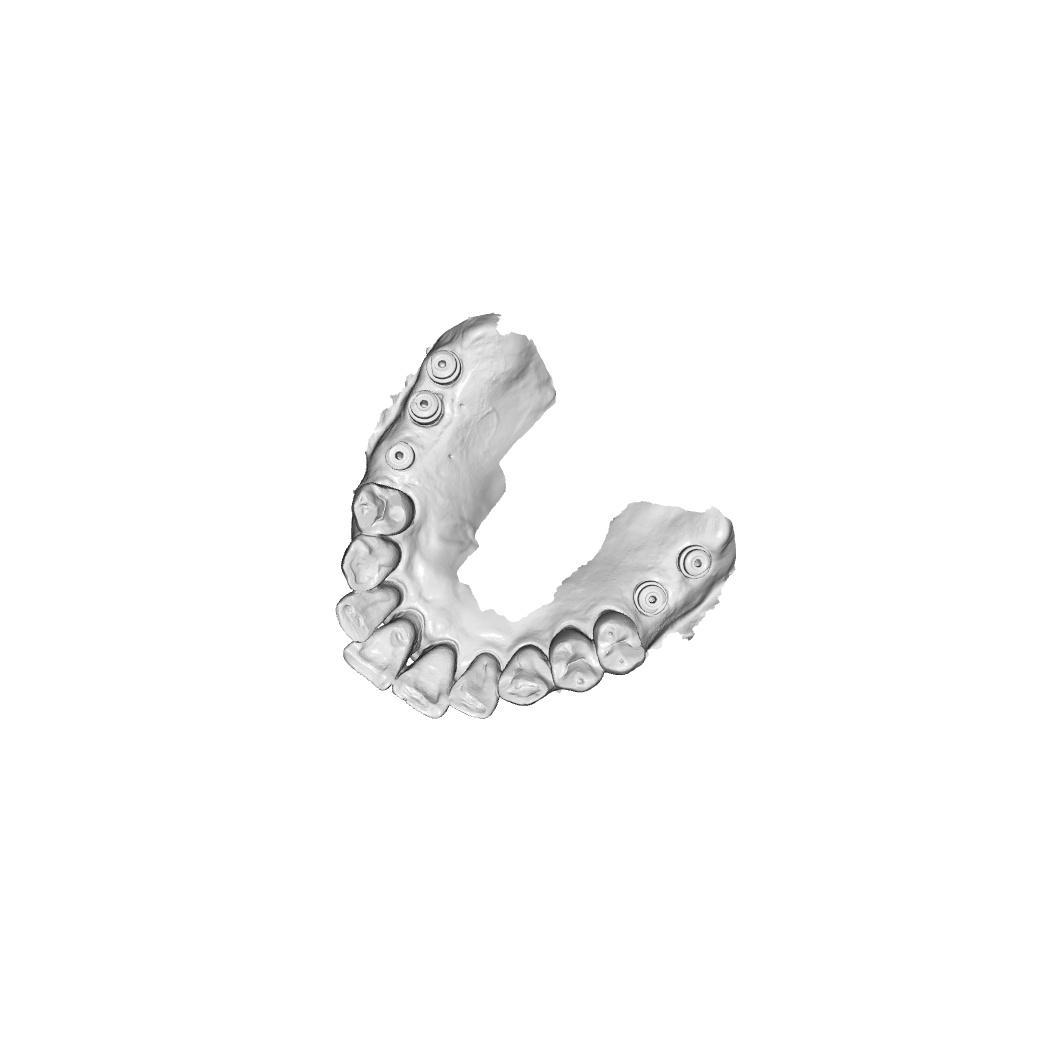canine: (497, 643, 556, 708), (340, 534, 402, 592)
implant: (406, 389, 445, 430), (676, 543, 714, 582), (425, 348, 462, 386), (632, 580, 669, 617), (384, 440, 416, 471)
incisor: (342, 616, 416, 693), (392, 642, 458, 720), (334, 585, 404, 643), (447, 651, 502, 720)
premolar: (548, 625, 605, 693), (350, 481, 416, 536), (592, 609, 646, 676)
